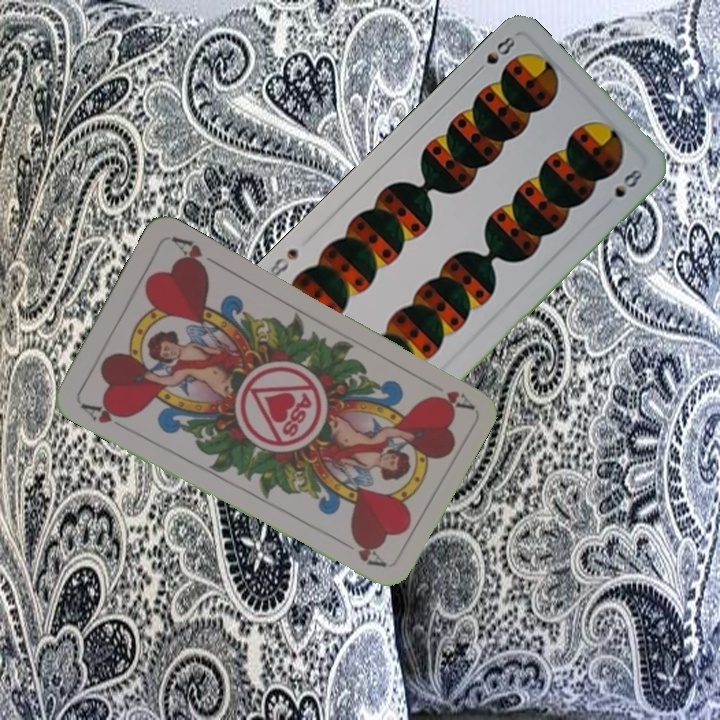HA: (420, 375, 475, 413), (76, 399, 132, 433)
S8: (470, 32, 518, 78)
